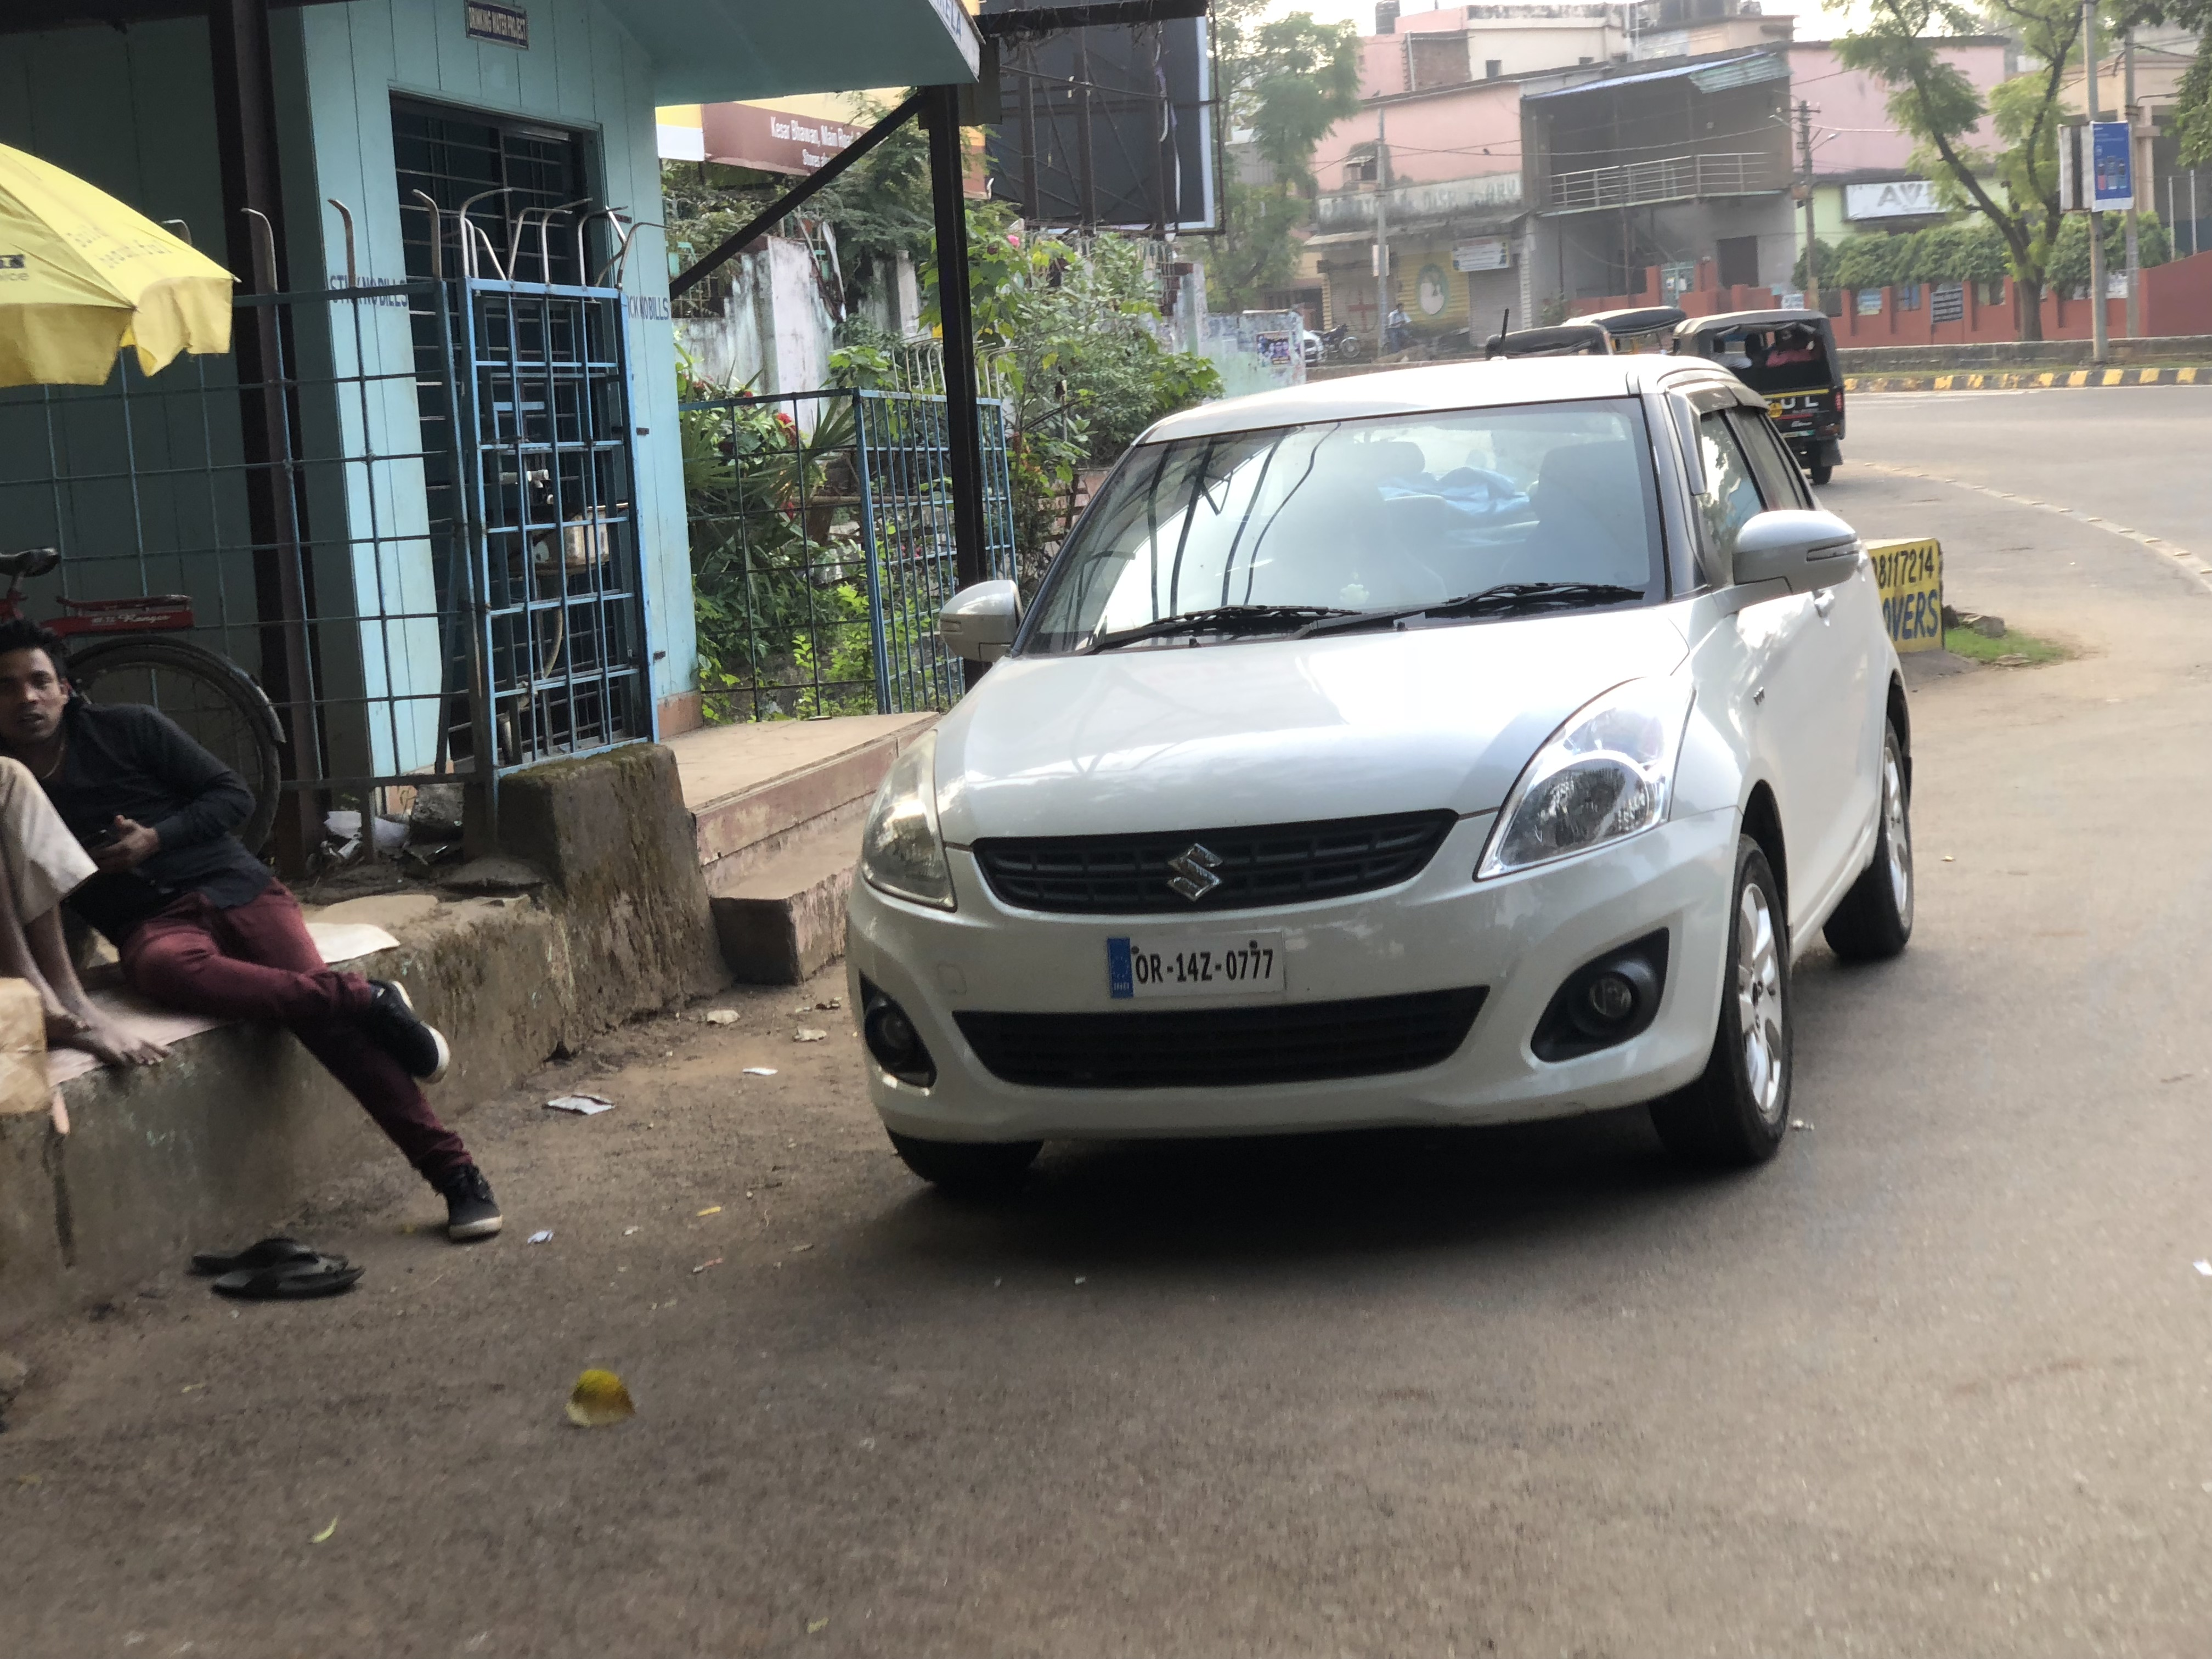licenseplate: (1101, 930, 1307, 1007)
